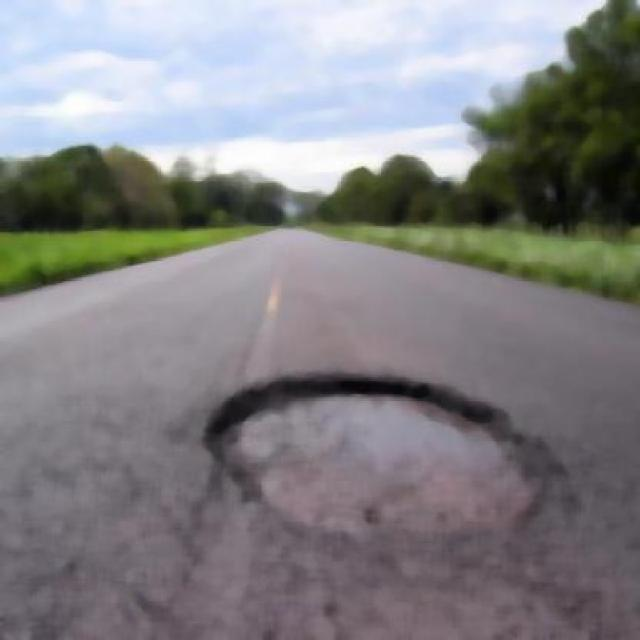Pothole: (217, 380, 528, 600)
